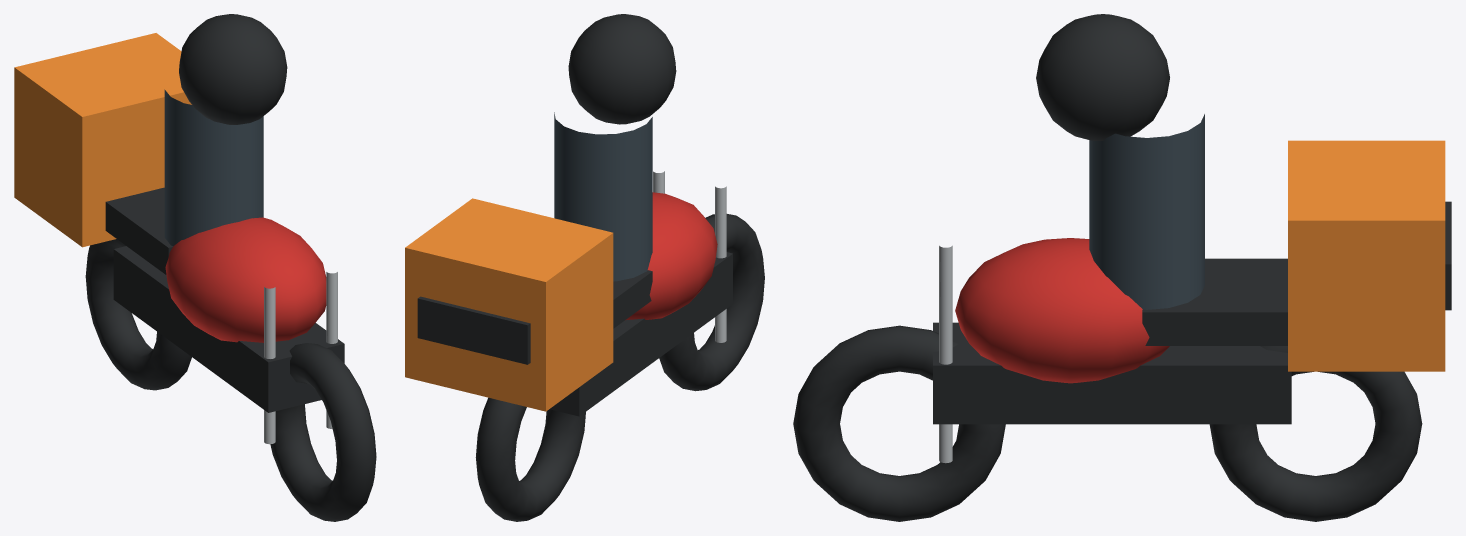
The model's file is delivery-bike.glb.
3 renders of one model, left to right at view 1: azimuth 30°, elevation 25°; view 2: azimuth 150°, elevation 25°; view 3: azimuth 270°, elevation 25°, orthographic. The views are drawn at different scales.
Visible parts, largest first — view 1: deliveryBox, tank, frontWheel, riderBody, frame, helmet, rearWheel, seat, leftFork, rightFork; view 2: deliveryBox, riderBody, helmet, rearWheel, frontWheel, frame, tank, boxPlate, seat, leftFork; view 3: deliveryBox, frame, tank, frontWheel, riderBody, rearWheel, helmet, seat, rightFork, boxPlate.
Boxes of the visible parts, bbox=[...] form: deliveryBox: bbox=[14, 33, 191, 247]; tank: bbox=[165, 217, 326, 342]; frontWheel: bbox=[270, 343, 376, 521]; riderBody: bbox=[164, 89, 263, 246]; frame: bbox=[113, 246, 344, 412]; helmet: bbox=[179, 14, 287, 124]; rearWheel: bbox=[85, 239, 191, 390]; seat: bbox=[105, 187, 173, 274]; leftFork: bbox=[264, 287, 275, 444]; rightFork: bbox=[326, 272, 337, 428]; deliveryBox: bbox=[405, 198, 613, 411]; riderBody: bbox=[554, 112, 652, 281]; helmet: bbox=[568, 14, 676, 124]; rearWheel: bbox=[475, 397, 585, 521]; frontWheel: bbox=[659, 214, 764, 391]; frame: bbox=[549, 252, 732, 416]; tank: bbox=[625, 192, 717, 320]; boxPlate: bbox=[417, 296, 530, 364]; seat: bbox=[613, 270, 652, 328]; leftFork: bbox=[715, 186, 726, 342]; deliveryBox: bbox=[1288, 140, 1445, 371]; frame: bbox=[933, 322, 1291, 424]; tank: bbox=[955, 238, 1169, 383]; frontWheel: bbox=[793, 325, 1005, 521]; riderBody: bbox=[1089, 114, 1204, 309]; rearWheel: bbox=[1209, 346, 1422, 521]; helmet: bbox=[1036, 14, 1169, 140]; seat: bbox=[1142, 258, 1287, 345]; rightFork: bbox=[939, 281, 952, 463]; boxPlate: bbox=[1445, 201, 1451, 310].
Bounding box in the file's own units: 0.82 × 2.39 × 2.85.
